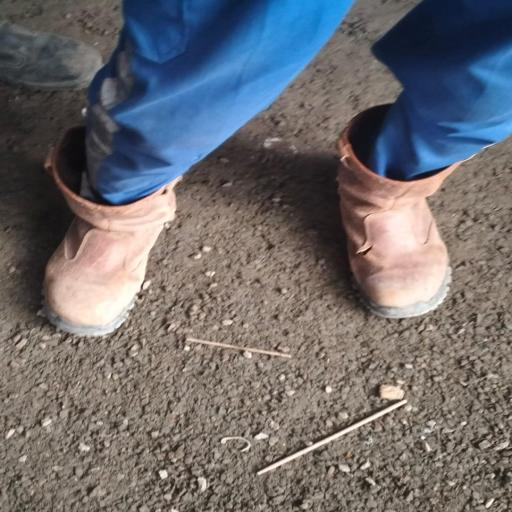safety_shoe: (31, 132, 182, 346), (327, 109, 473, 320)
